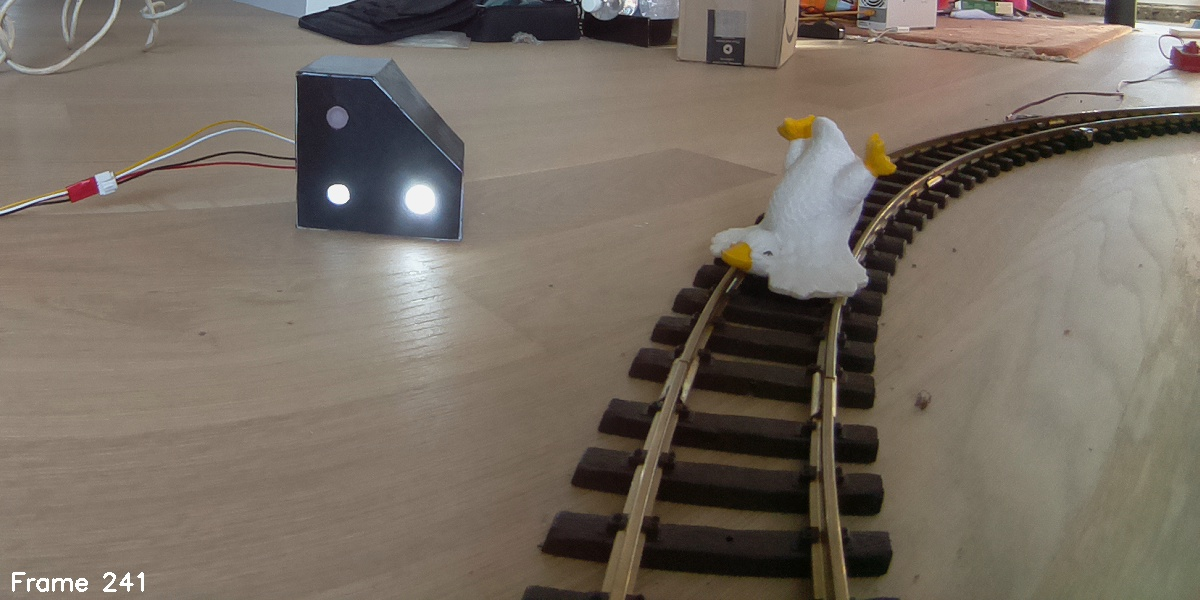Ente: (708, 110, 898, 305)
Halt: (298, 50, 462, 243)
